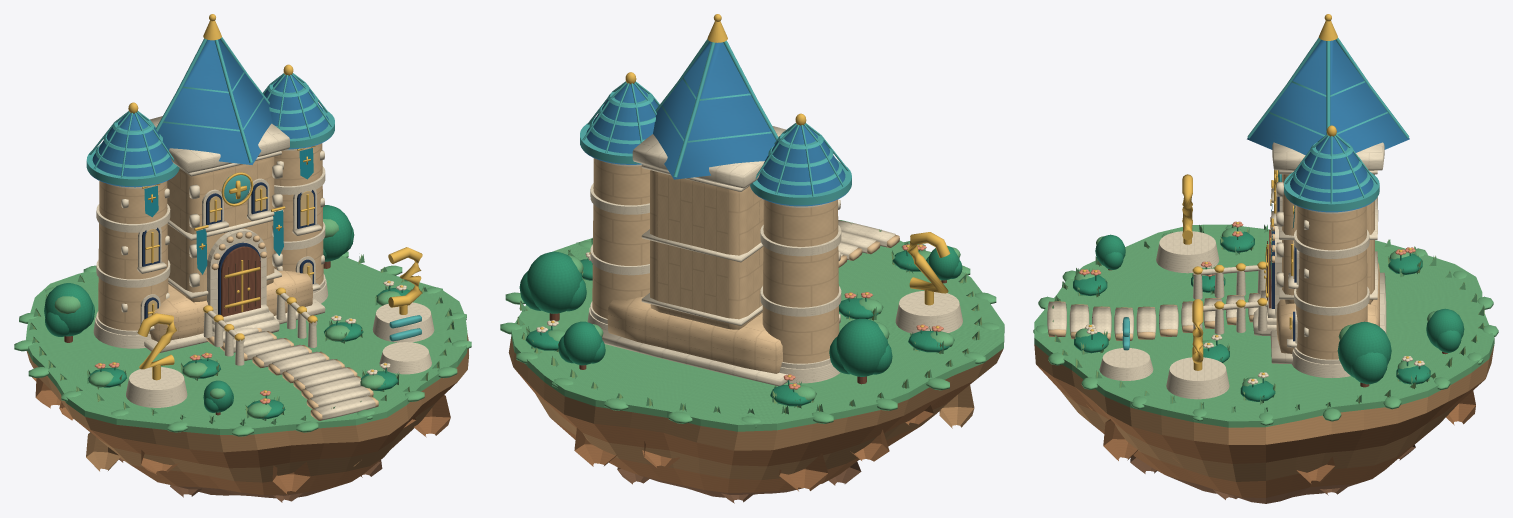
Rendered from math-world.glb.
3 views of the same model, side by side, from view 1: azimuth 30°, elevation 25°; view 2: azimuth 150°, elevation 25°; view 3: azimuth 270°, elevation 25° (orthographic). The views are drawn at different scales.
Parts seen in each view (by area): view 1: math-world_Living mint grass, math-world_Pale paving and trim, math-world_Honey limestone masonry, math-world_Glazed blue castle roofs, math-world_Sunlit sandstone strata, math-world_Warm stratified island rock, math-world_Turquoise glazed roof band, math-world_Deep jade leaves, math-world_Gold painted math sculptures, math-world_Walnut arched door, math-world_Teal woven banner, math-world_Deep window recess (+3 smaller); view 2: math-world_Honey limestone masonry, math-world_Living mint grass, math-world_Glazed blue castle roofs, math-world_Pale paving and trim, math-world_Sunlit sandstone strata, math-world_Warm stratified island rock, math-world_Deep jade leaves, math-world_Turquoise glazed roof band, math-world_Gold painted math sculptures, math-world_Deep ochre cliff strata, math-world_Fresh lime grass tips; view 3: math-world_Living mint grass, math-world_Pale paving and trim, math-world_Sunlit sandstone strata, math-world_Honey limestone masonry, math-world_Glazed blue castle roofs, math-world_Warm stratified island rock, math-world_Deep jade leaves, math-world_Turquoise glazed roof band, math-world_Gold painted math sculptures, math-world_Deep ochre cliff strata, math-world_Fresh lime grass tips.
Part boxes in pixels (x1,y1,x2,y2): math-world_Living mint grass: (14,219,471,436); math-world_Pale paving and trim: (93,116,434,420); math-world_Honey limestone masonry: (98,143,378,420); math-world_Glazed blue castle roofs: (90,39,331,187); math-world_Sunlit sandstone strata: (26,333,468,482); math-world_Warm stratified island rock: (32,377,457,494); math-world_Turquoise glazed roof band: (86,37,421,341); math-world_Deep jade leaves: (44,205,410,418); math-world_Gold painted math sculptures: (99,14,422,400); math-world_Walnut arched door: (64,246,330,415); math-world_Teal woven banner: (144,148,313,274); math-world_Deep window recess: (142,182,315,319); math-world_Honey limestone masonry: (592,158,899,373); math-world_Living mint grass: (500,220,1004,431); math-world_Glazed blue castle roofs: (583,41,847,206); math-world_Pale paving and trim: (536,126,962,386); math-world_Sunlit sandstone strata: (508,337,1003,480); math-world_Warm stratified island rock: (515,369,975,492); math-world_Deep jade leaves: (519,245,962,406); math-world_Turquoise glazed roof band: (580,39,851,205); math-world_Gold painted math sculptures: (540,14,950,386); math-world_Deep ochre cliff strata: (617,461,861,503); math-world_Fresh lime grass tips: (517,223,981,414); math-world_Living mint grass: (1033,224,1498,427); math-world_Pale paving and trim: (1047,142,1424,399); math-world_Sunlit sandstone strata: (1034,344,1494,481); math-world_Honey limestone masonry: (1048,174,1379,359); math-world_Glazed blue castle roofs: (1247,40,1409,212); math-world_Warm stratified island rock: (1037,365,1484,497); math-world_Deep jade leaves: (1073,227,1464,401); math-world_Turquoise glazed roof band: (1122,37,1409,350); math-world_Gold painted math sculptures: (1082,14,1421,381); math-world_Deep ochre cliff strata: (1130,241,1415,503); math-world_Fresh lime grass tips: (1052,225,1484,412).
Bounding box in the file's own units: 4.18 × 4.51 × 4.1.
16 materials, 16 textured.
